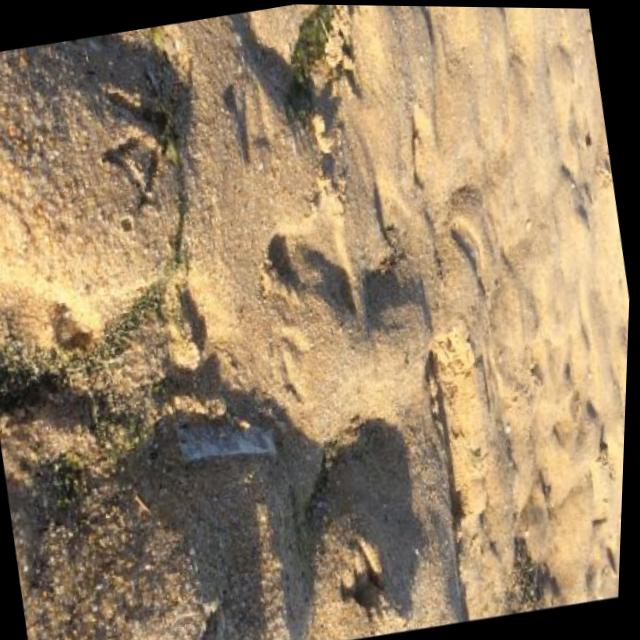plastic: (171, 411, 279, 475)
